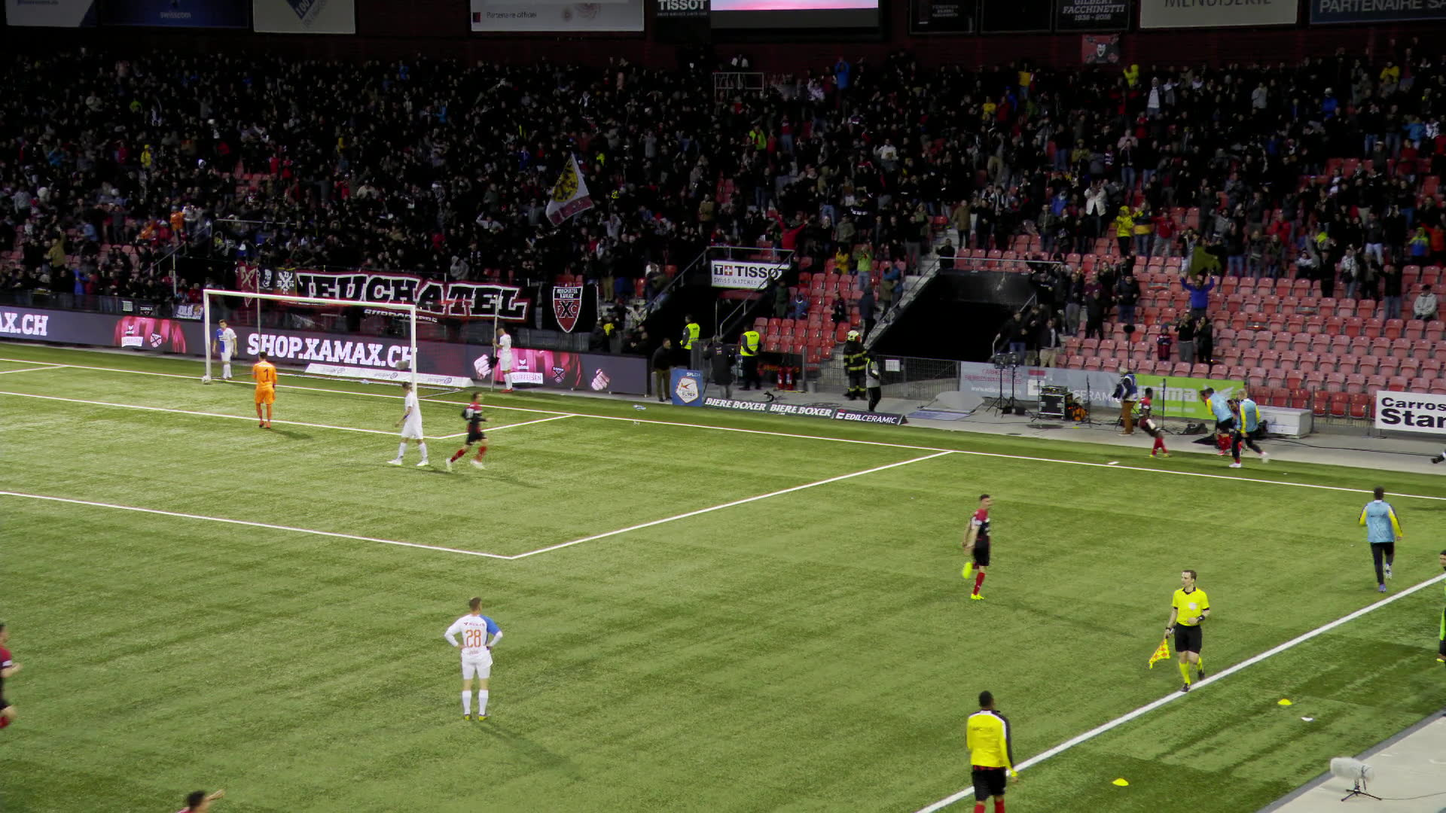ball: (203, 376, 211, 383)
player: (444, 596, 504, 720), (954, 492, 999, 594), (441, 394, 484, 473), (0, 614, 25, 733), (1127, 387, 1166, 460), (398, 379, 426, 466), (252, 351, 277, 429), (1198, 405, 1231, 458), (160, 788, 231, 812), (212, 321, 238, 382), (492, 326, 512, 393)
referee: (1164, 562, 1211, 692)
